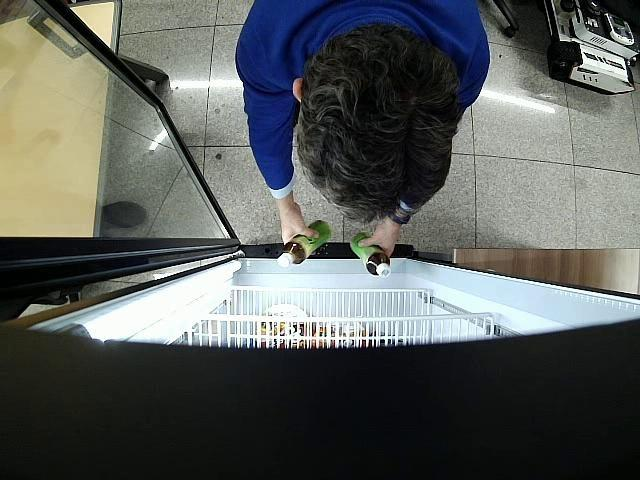19_17cha: (278, 220, 333, 268), (352, 232, 392, 278)
